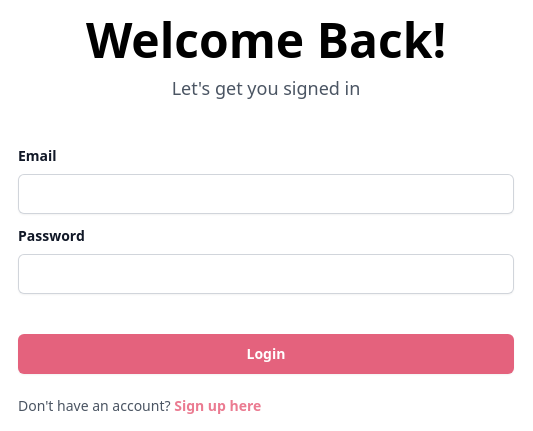
Test: Login test › shows an error alert on failed login
// Enter login credentials
Type "test@example.com" into the field labelled "Email" at point(266, 194), box [18,174,514,214]
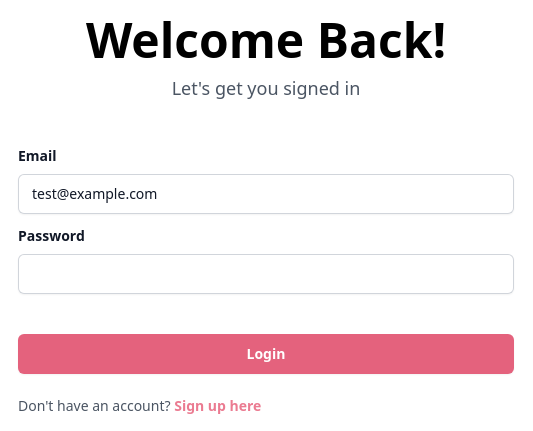
Type "wrongpassword" into the password field labelled "Password" at point(266, 274), box [18,254,514,294]
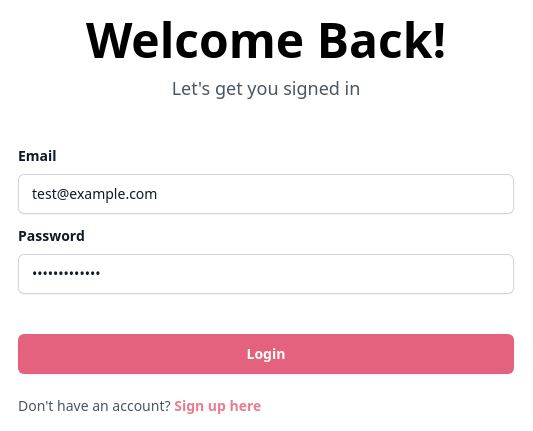
// Click login button
Click the button "Login" at point(266, 354), box [18,334,514,374]
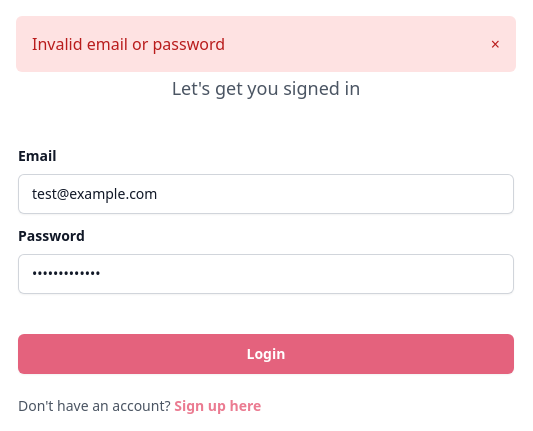
expect the text "Invalid email or password" is shown: met, box [32,33,225,55]
